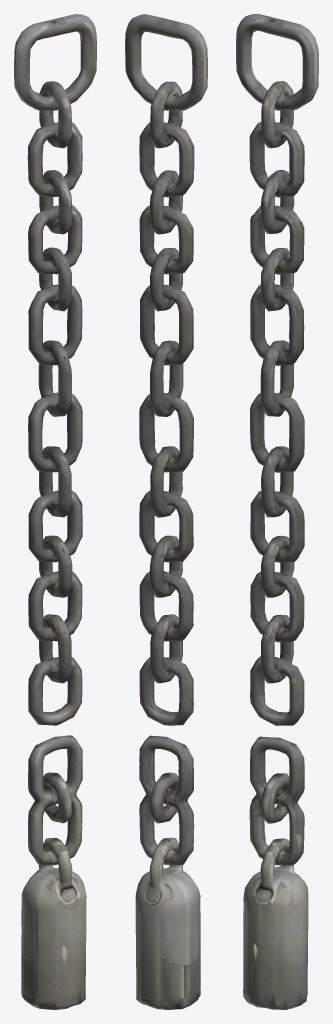
Rendered from AxeChain.fbx.
The picture shows the model from 3 angles, left to right: view 1: azimuth 30°, elevation 25°; view 2: azimuth 150°, elevation 25°; view 3: azimuth 330°, elevation 25°; orthographic projection.
Visible parts, largest first — view 1: Mesh1_Mesh1.011; view 2: Mesh1_Mesh1.011; view 3: Mesh1_Mesh1.011.
Boxes of the visible parts, x1,y1,x2,y2 form: Mesh1_Mesh1.011: [14, 14, 96, 1009]; Mesh1_Mesh1.011: [125, 14, 207, 1009]; Mesh1_Mesh1.011: [236, 14, 318, 1009].
Bounding box in the file's own units: 17.41 × 200 × 11.89.
1 material, 1 textured.
